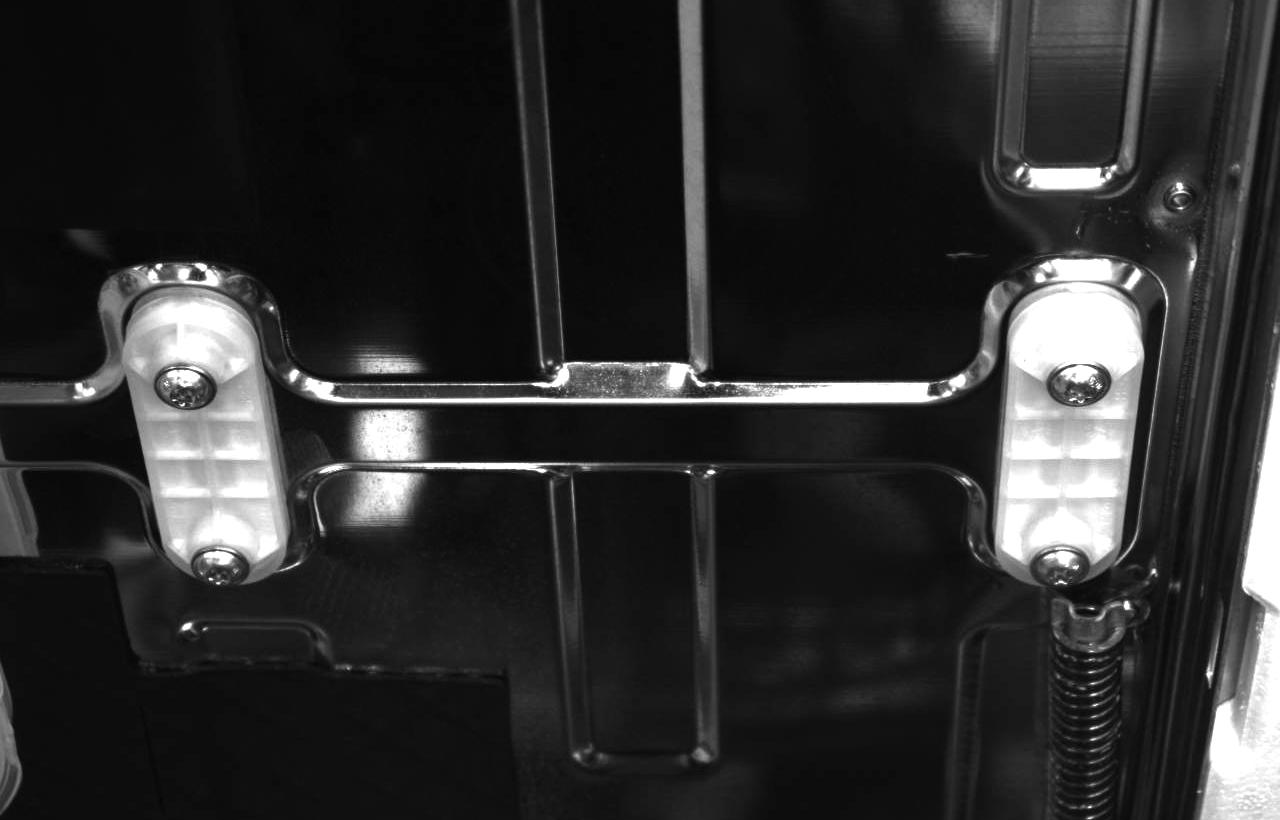vida-ok: (150, 352, 221, 419), (1047, 349, 1114, 417), (186, 535, 251, 594), (1029, 534, 1094, 592)
